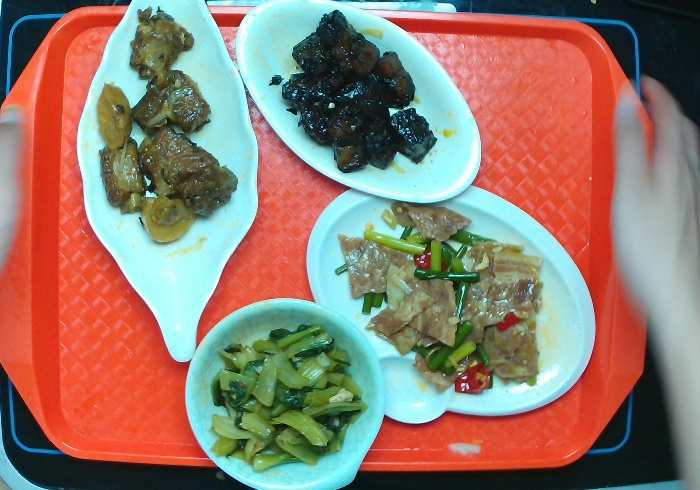RJxy-Bai_Se_Tuo_Yuan: (233, 1, 486, 210)
RJxy-Shu_Ye_Pan: (72, 1, 263, 371)
RJxy-Xiao_Jiao_Yuan_Wan: (179, 294, 390, 490)
RJxy-Zhan_Liao_Pan: (301, 173, 601, 428)
